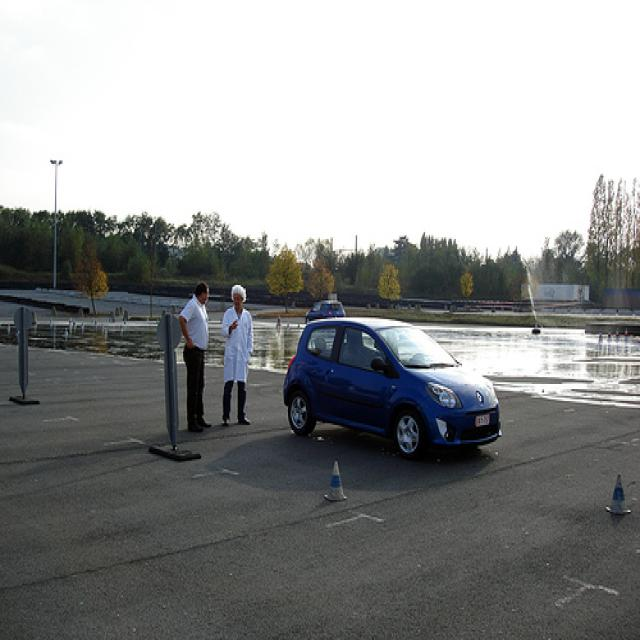light_vehicle: (283, 316, 503, 464), (298, 294, 347, 319)
